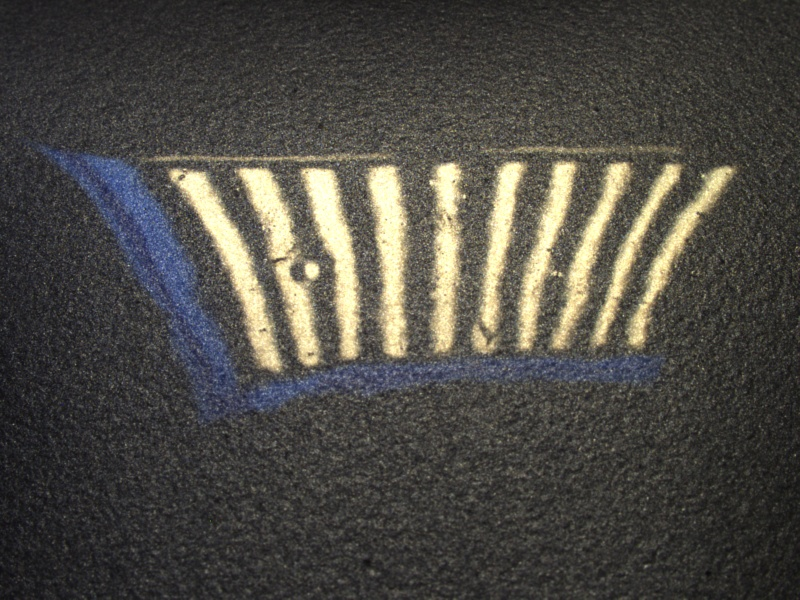bad: (284, 252, 325, 292)
